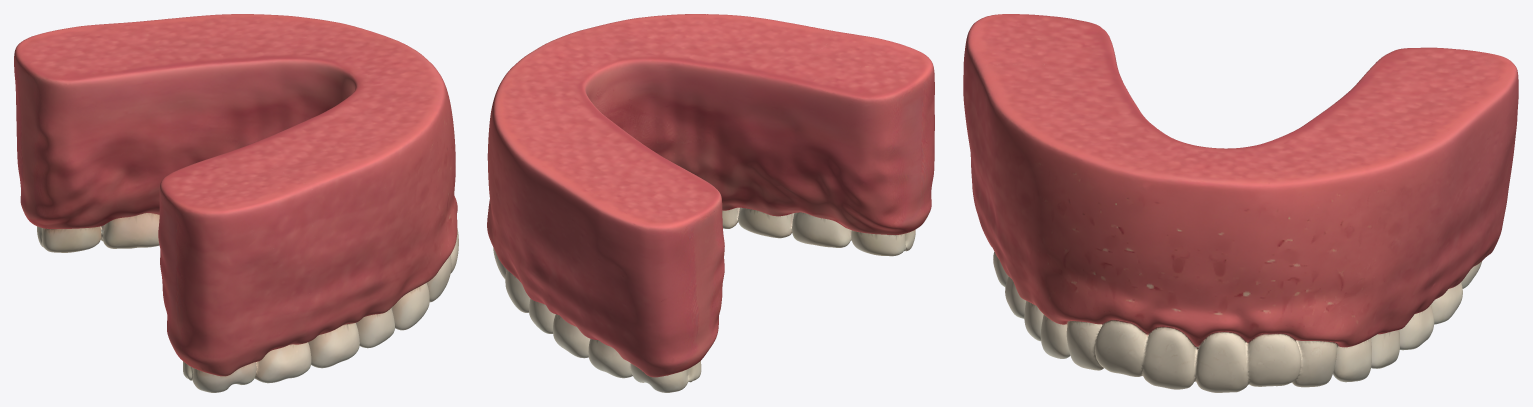
The model's file is arcade_lower.glb.
3 views of the same model, side by side, from view 1: azimuth 30°, elevation 25°; view 2: azimuth 150°, elevation 25°; view 3: azimuth 270°, elevation 25° (orthographic). The views are drawn at different scales.
Parts seen in each view (by area): view 1: cerrada_arcada_inferior; view 2: cerrada_arcada_inferior; view 3: cerrada_arcada_inferior.
Part boxes in pixels (x1,y1,x2,y2): cerrada_arcada_inferior: (14, 14, 458, 392); cerrada_arcada_inferior: (487, 14, 934, 392); cerrada_arcada_inferior: (963, 14, 1518, 392).
Bounding box in the file's own units: 0.9902 × 0.6018 × 1.27.
1 material, 1 textured.
